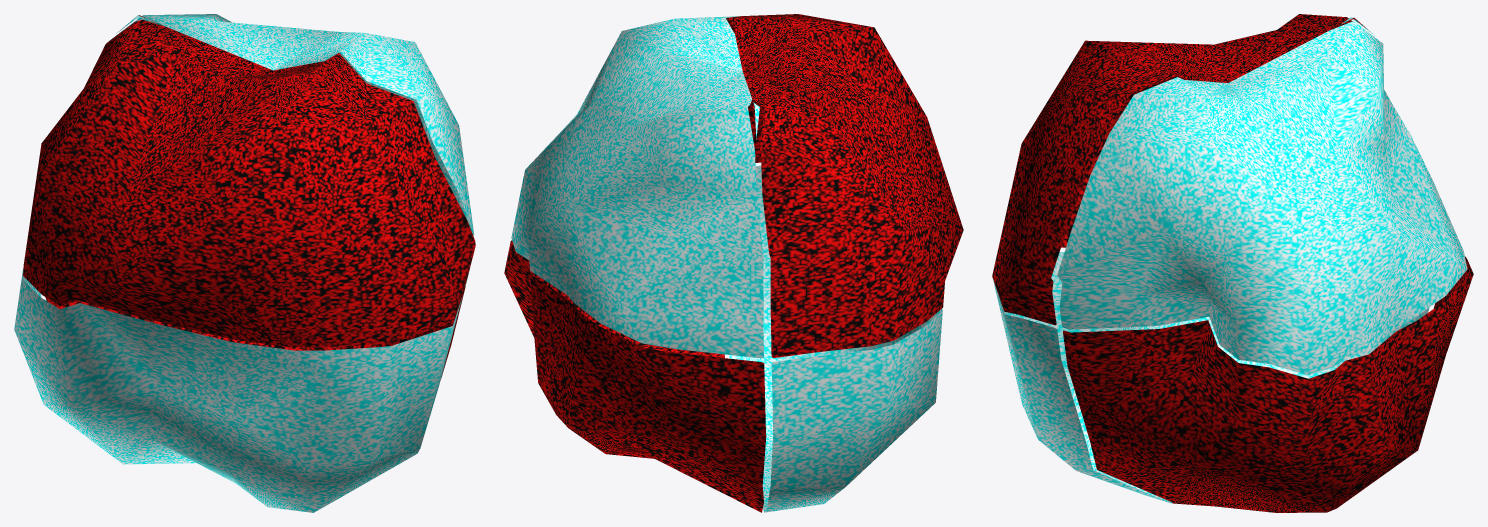
The model's file is SM_Rock_01_HJS.fbx.
The picture shows the model from 3 angles, left to right: view 1: azimuth 30°, elevation 25°; view 2: azimuth 150°, elevation 25°; view 3: azimuth 270°, elevation 25°; orthographic projection. The views are drawn at different scales.
Parts seen in each view (by area): view 1: SM_Rock_01_HJS; view 2: SM_Rock_01_HJS; view 3: SM_Rock_01_HJS.
Boxes of the visible parts, x1,y1,x2,y2 form: SM_Rock_01_HJS: (14, 14, 475, 512); SM_Rock_01_HJS: (504, 14, 963, 512); SM_Rock_01_HJS: (992, 14, 1473, 512).
Bounding box in the file's own units: 146 × 145 × 143.
